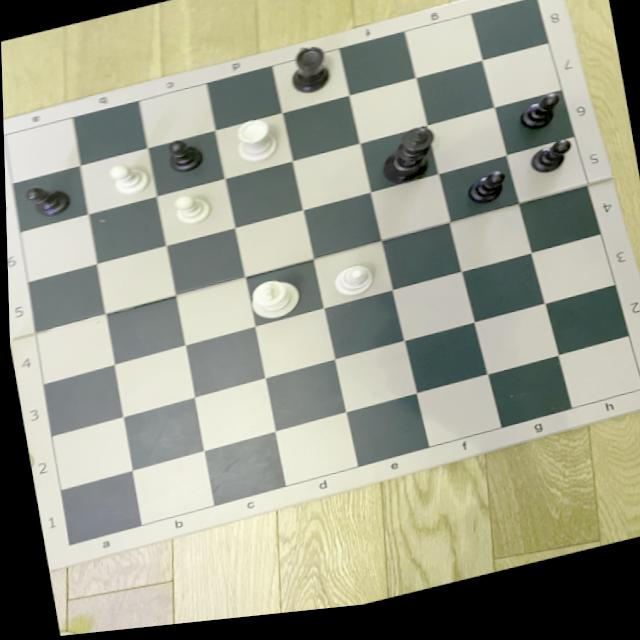Chessboard-Corners: (527, 0, 551, 19), (56, 539, 78, 555), (3, 127, 20, 146), (628, 395, 640, 410)
